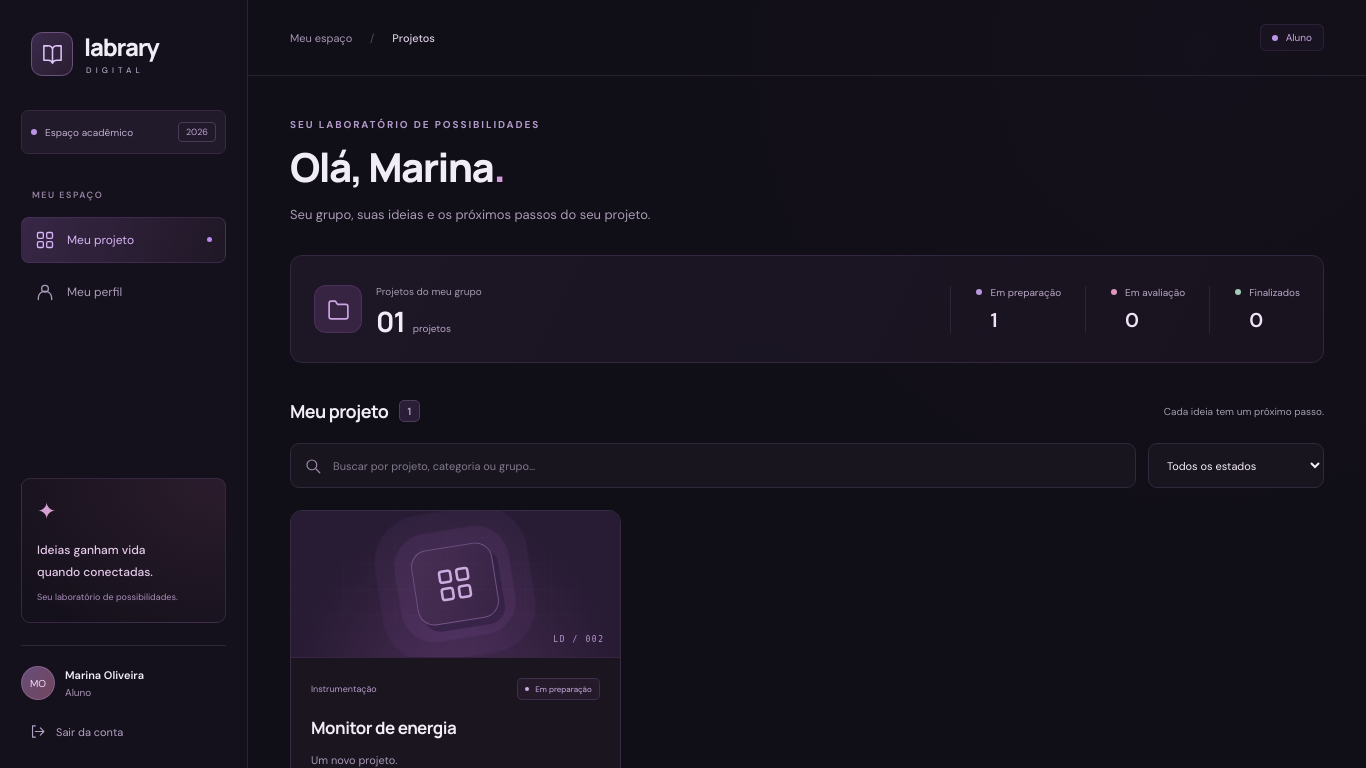
Test case: HU01: interface › atualiza sessão ao voltar para a aba e trata logout que falha
Expected: the link "Monitor de energia" is shown, [311,716,456,740]
Click the button "Sair da conta".
click(76, 732)  # box [21,713,131,750]
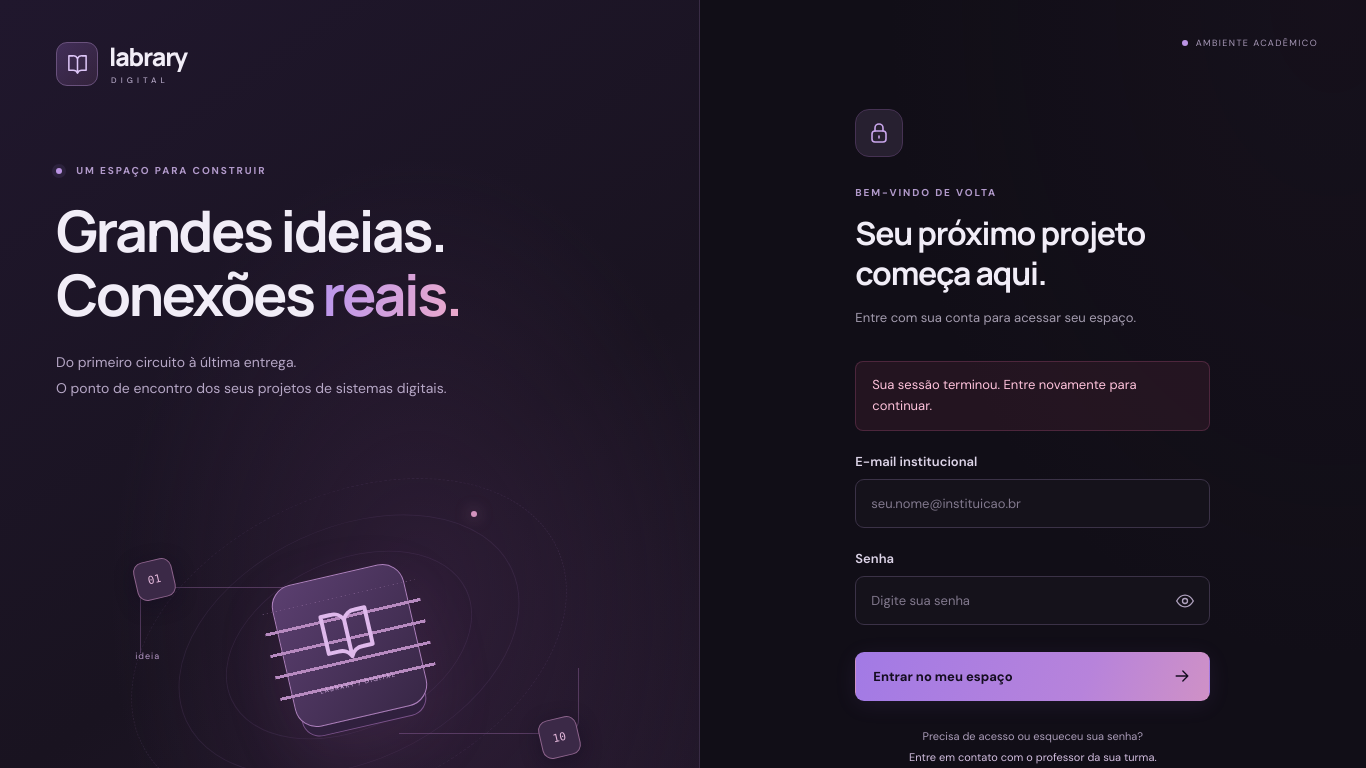
Now the message "Sua sessão terminou. Entre novamente para continuar." is shown, box [855,361,1210,431]
Now the button "Entrar no meu espaço" is shown, box [855,652,1210,701]
